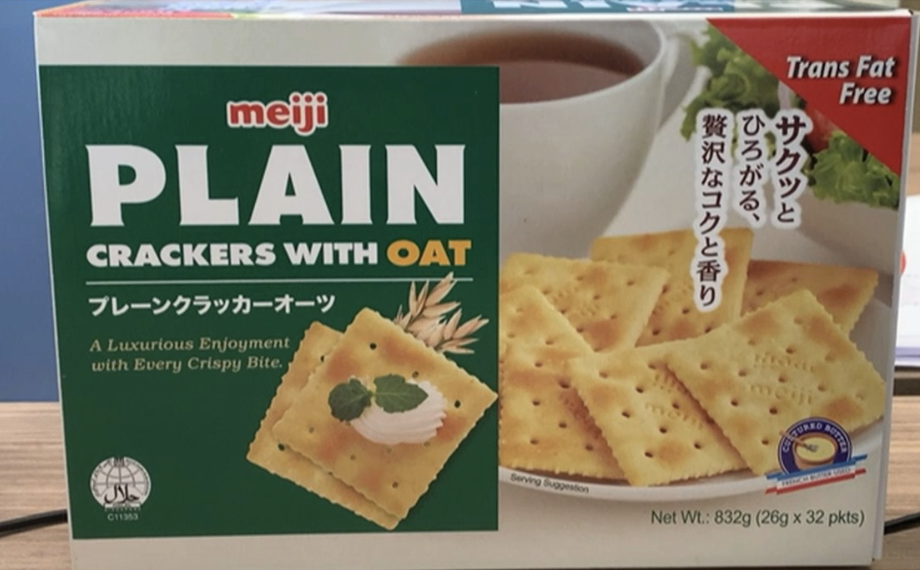crackers_550g: (77, 48, 892, 540)
